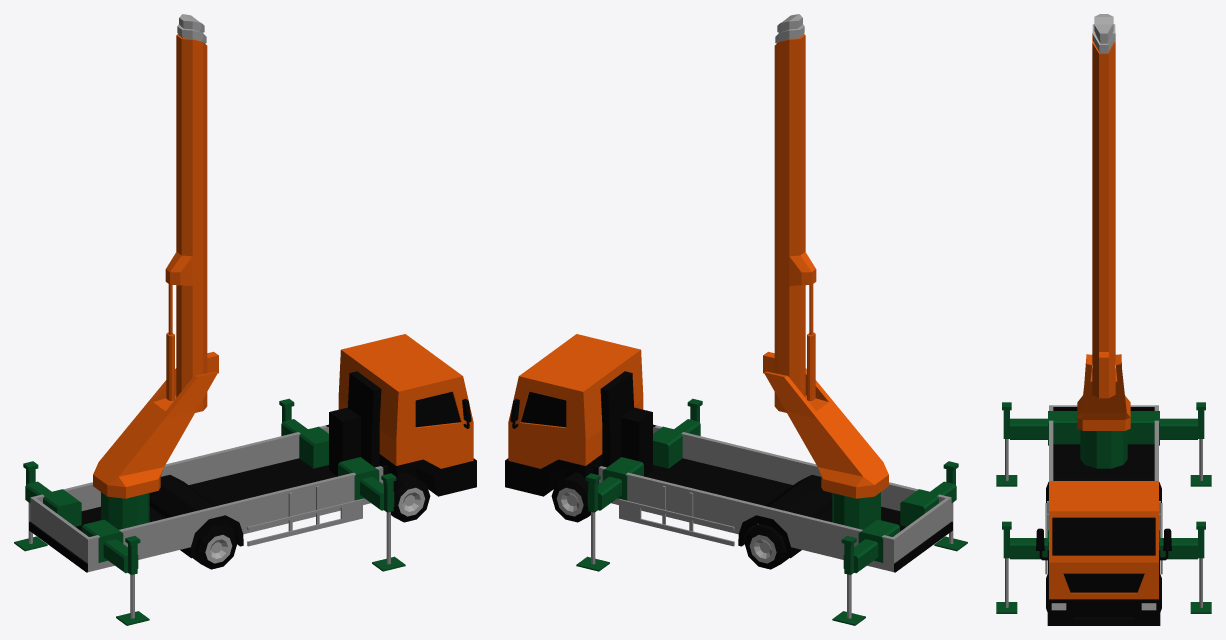
Rendered from Kran(2).fbx.
3 renders of one model, left to right at view 1: azimuth 30°, elevation 25°; view 2: azimuth 150°, elevation 25°; view 3: azimuth 270°, elevation 25°, orthographic. The views are drawn at different scales.
Parts seen in each view (by area): view 1: Lkw Fahrzeug, Kran teil, Cube.002; view 2: Lkw Fahrzeug, Kran teil, Cube.002; view 3: Lkw Fahrzeug, Kran teil, Cube.002, Kran teil1.001.
Part boxes in pixels (x1,y1,x2,y2): Lkw Fahrzeug: (14, 334, 476, 625); Kran teil: (165, 34, 218, 412); Cube.002: (93, 368, 217, 498); Lkw Fahrzeug: (505, 334, 967, 625); Kran teil: (763, 34, 816, 412); Cube.002: (764, 368, 888, 498); Lkw Fahrzeug: (996, 402, 1211, 625); Kran teil: (1092, 33, 1115, 398); Cube.002: (1077, 354, 1130, 430); Kran teil1.001: (1094, 14, 1113, 43).
Bounding box in the file's own units: 442 × 590 × 221.
